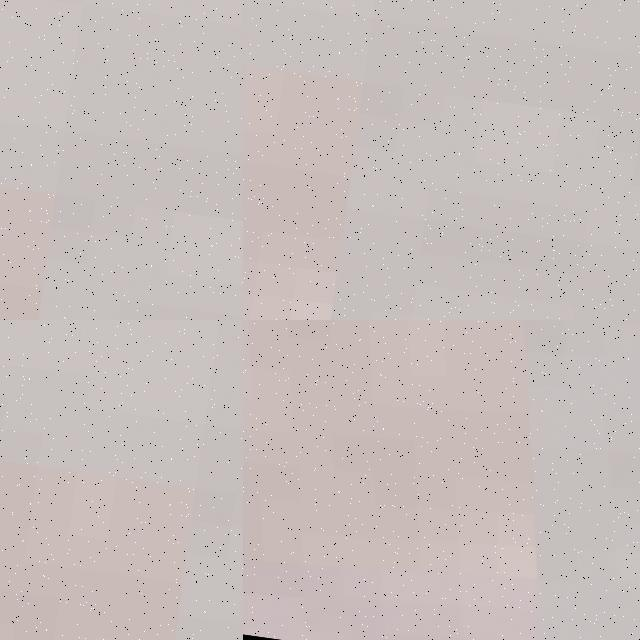drone: (243, 320, 640, 640)
